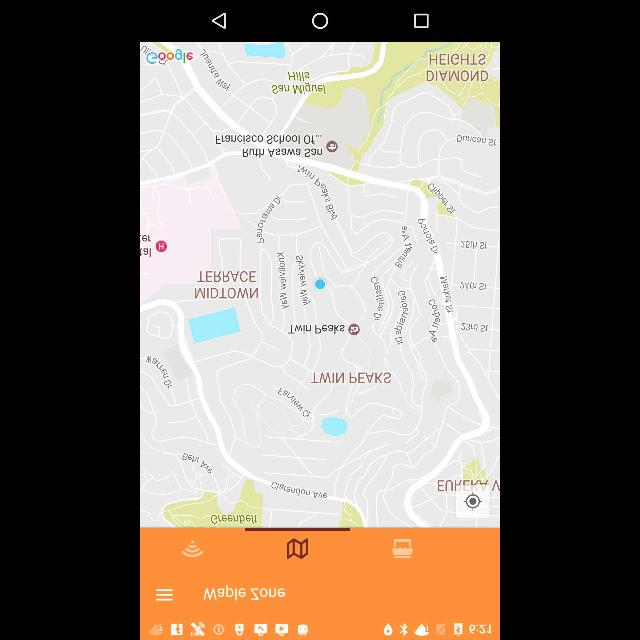icon: (288, 538, 308, 558), (462, 492, 483, 511), (182, 539, 204, 557), (392, 540, 413, 558), (312, 12, 328, 30), (212, 12, 226, 30), (156, 589, 174, 601), (414, 14, 428, 28)
map: (140, 41, 500, 527)
multitab: (140, 528, 500, 568)
panel: (140, 1, 500, 42)
text: (203, 586, 285, 600)
toolbar: (140, 572, 500, 618)
uppertaskbar: (140, 620, 500, 640)
